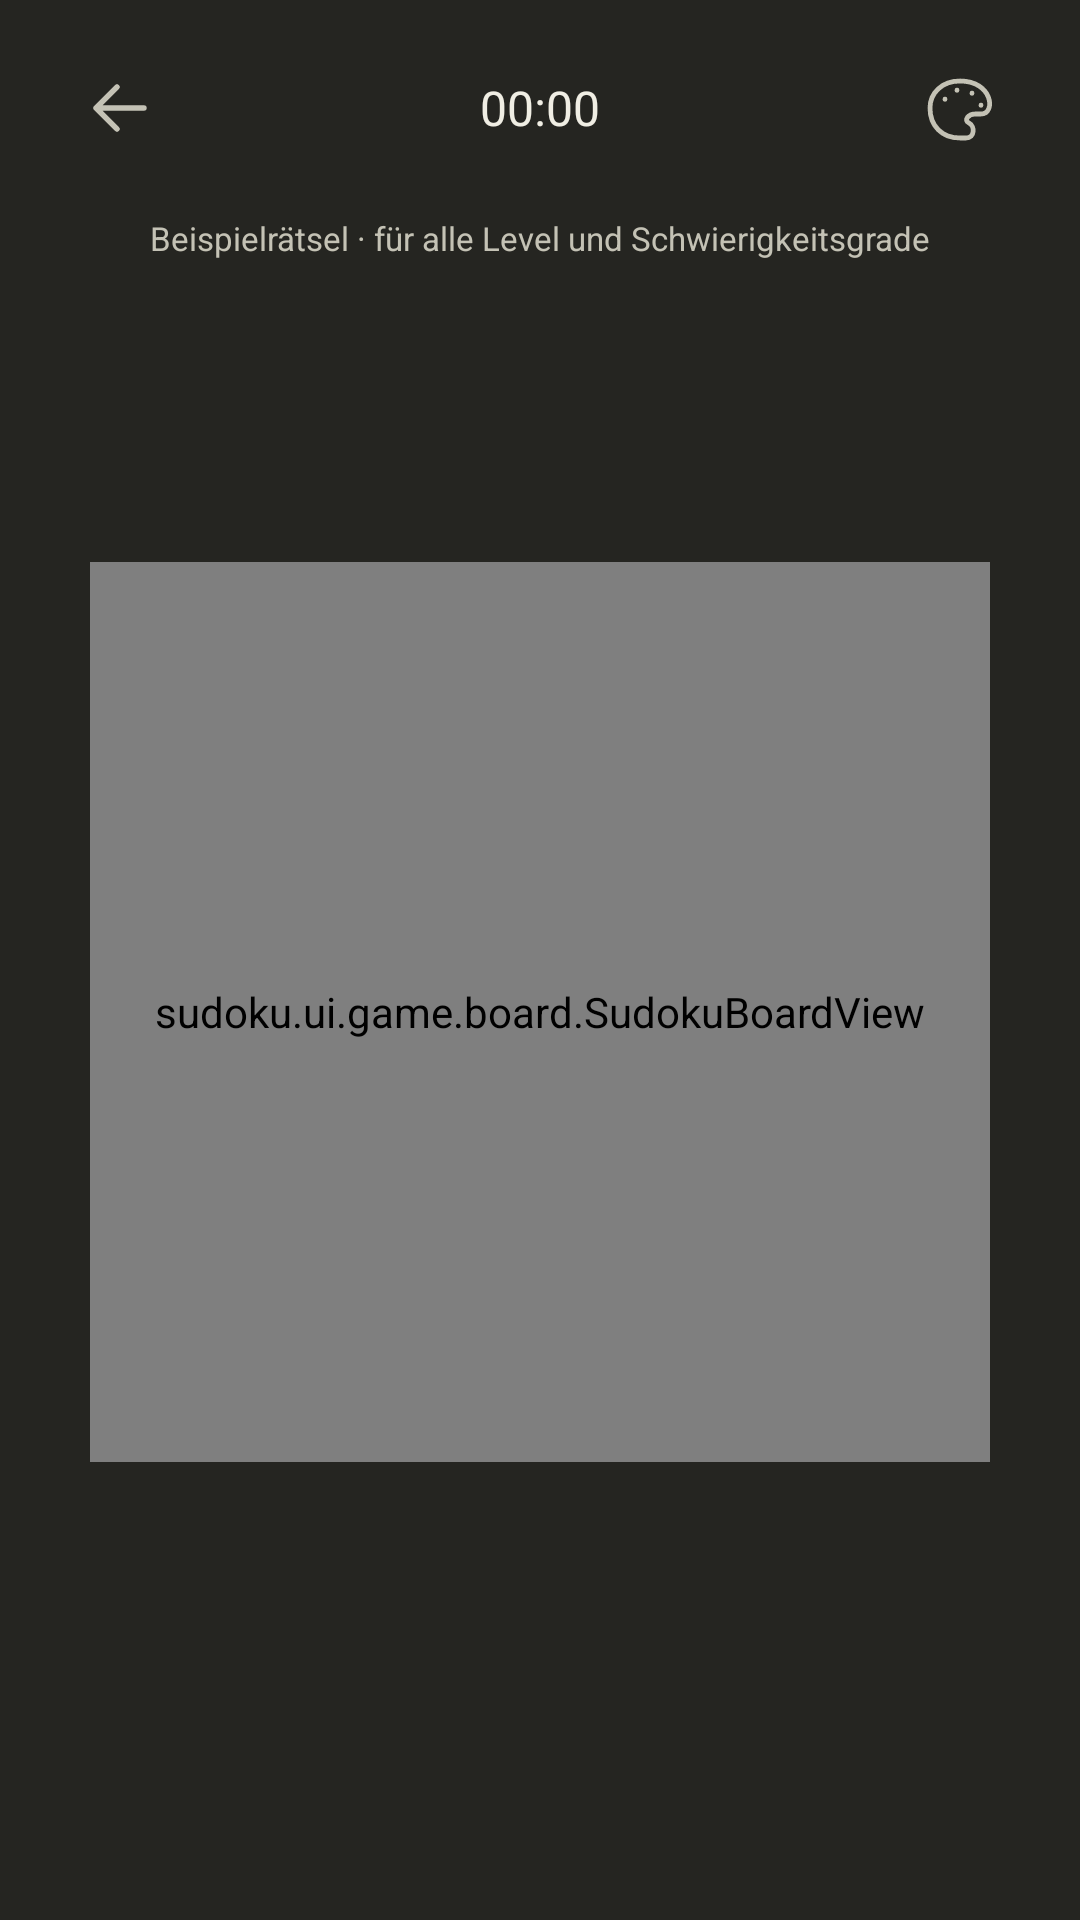

Screen size 1080 x 1920. Icon name, then its box in pixels as (x1,y1,x2,y2):
Farbthema wählen: (927,78,992,141)
Zur Startseite: (93,84,147,132)
